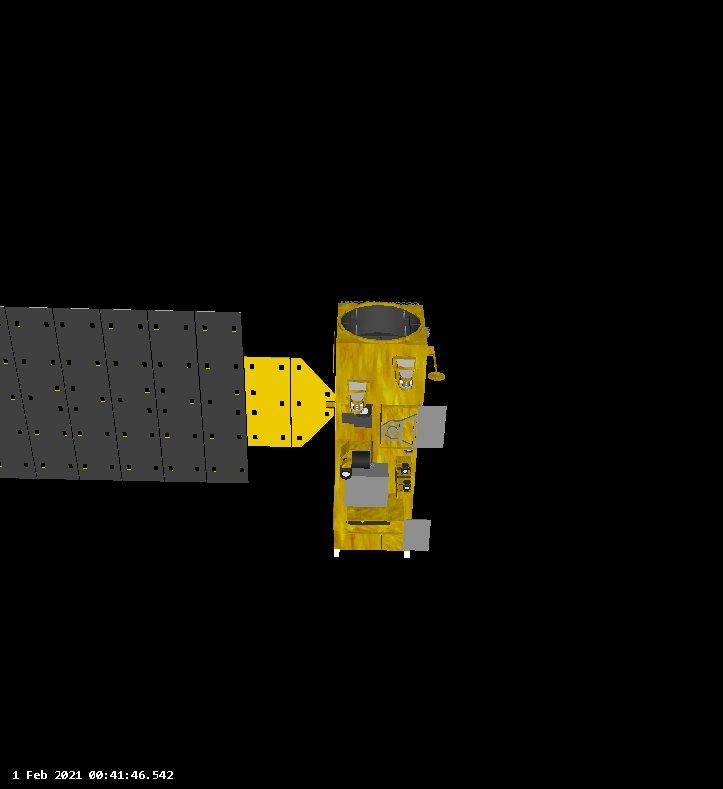antenna: (427, 364, 446, 383), (341, 471, 351, 478), (404, 486, 410, 491), (402, 470, 408, 474)
body: (328, 294, 428, 570)
solar: (0, 305, 256, 485)
